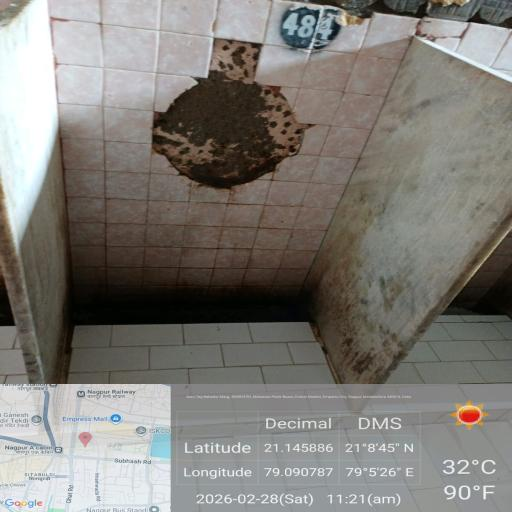clean_floor: (56, 324, 274, 382)
partial_dirty_floor: (282, 88, 506, 392), (71, 6, 277, 202), (34, 207, 285, 317)
